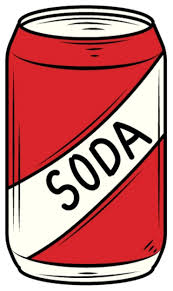can: (6, 3, 167, 283)
